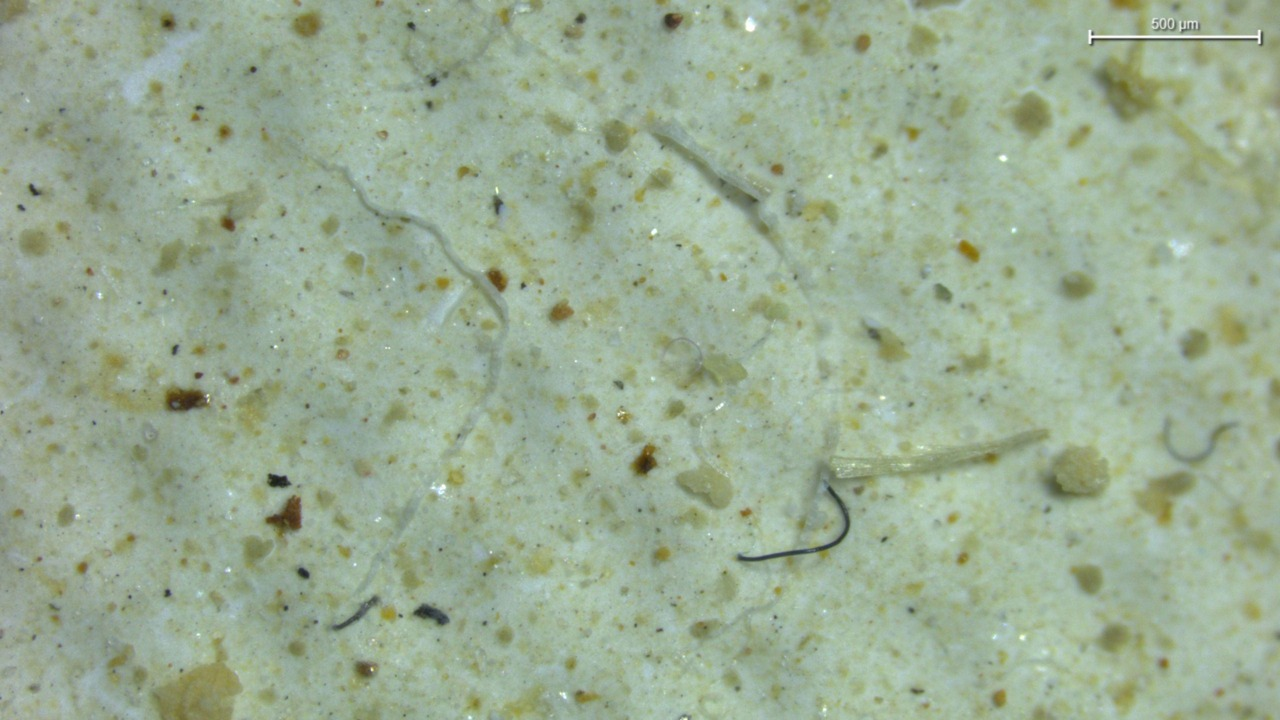microplastic_fragment: (1051, 446, 1110, 495), (676, 463, 735, 508)
